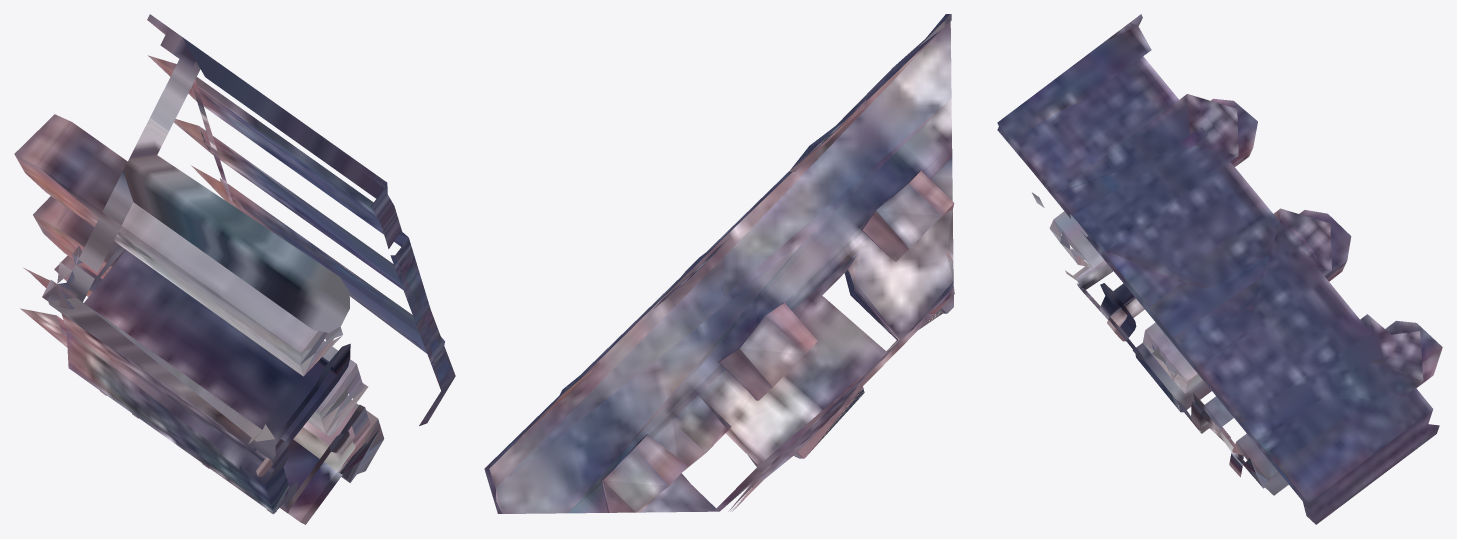
3 renders of one model, left to right at view 1: azimuth 30°, elevation 25°; view 2: azimuth 150°, elevation 25°; view 3: azimuth 270°, elevation 25°, orthographic. The views are drawn at different scales.
Bounding box in the file's own units: 44.79 × 53.05 × 54.67.
1 material, 1 textured.
